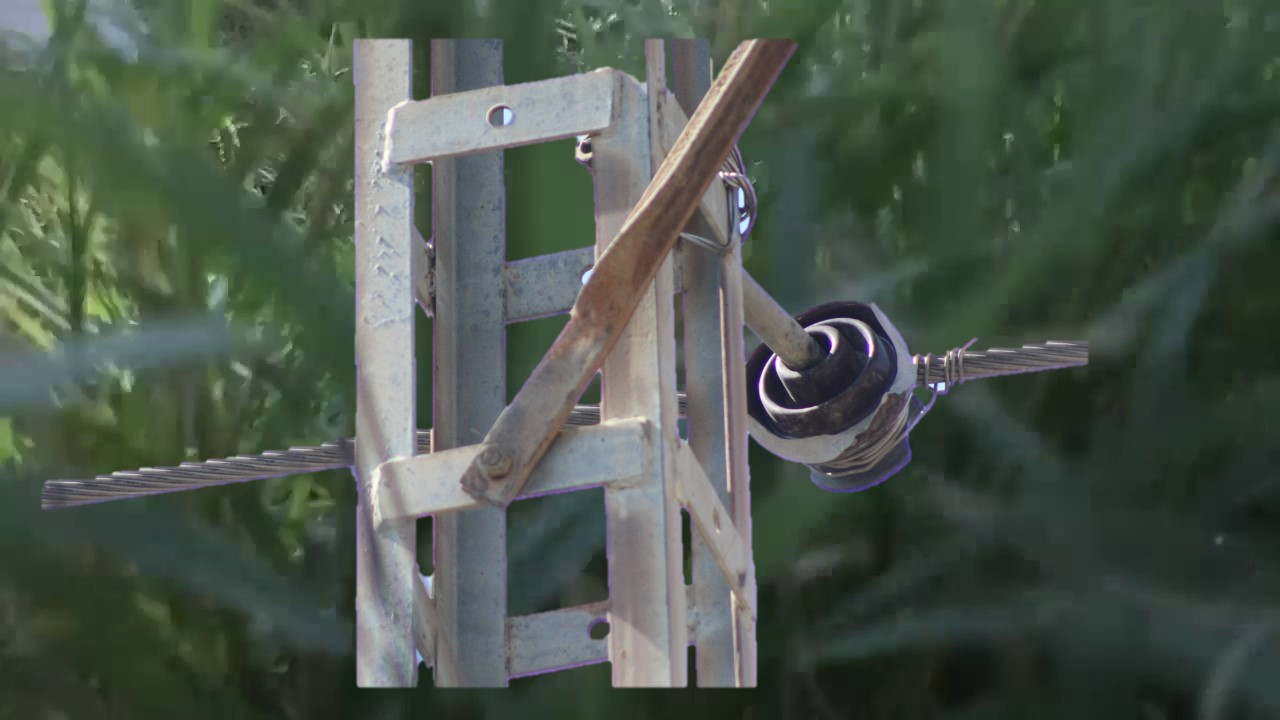defect_pin: (742, 293, 926, 507)
